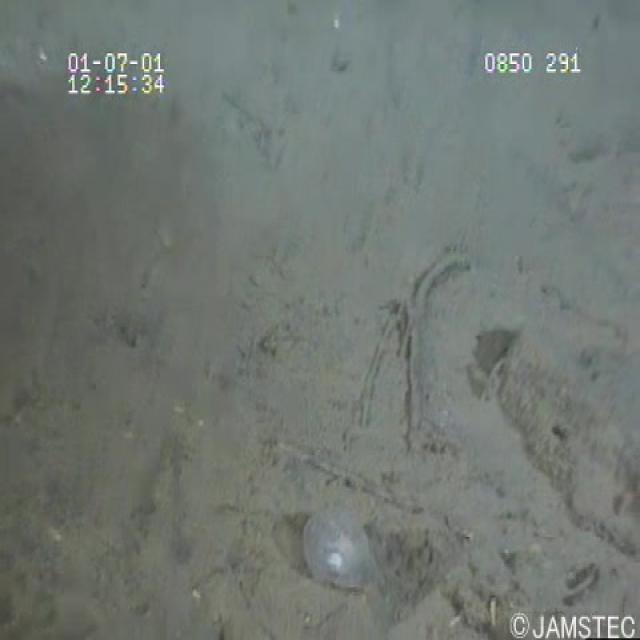plastic: (290, 496, 390, 610)
